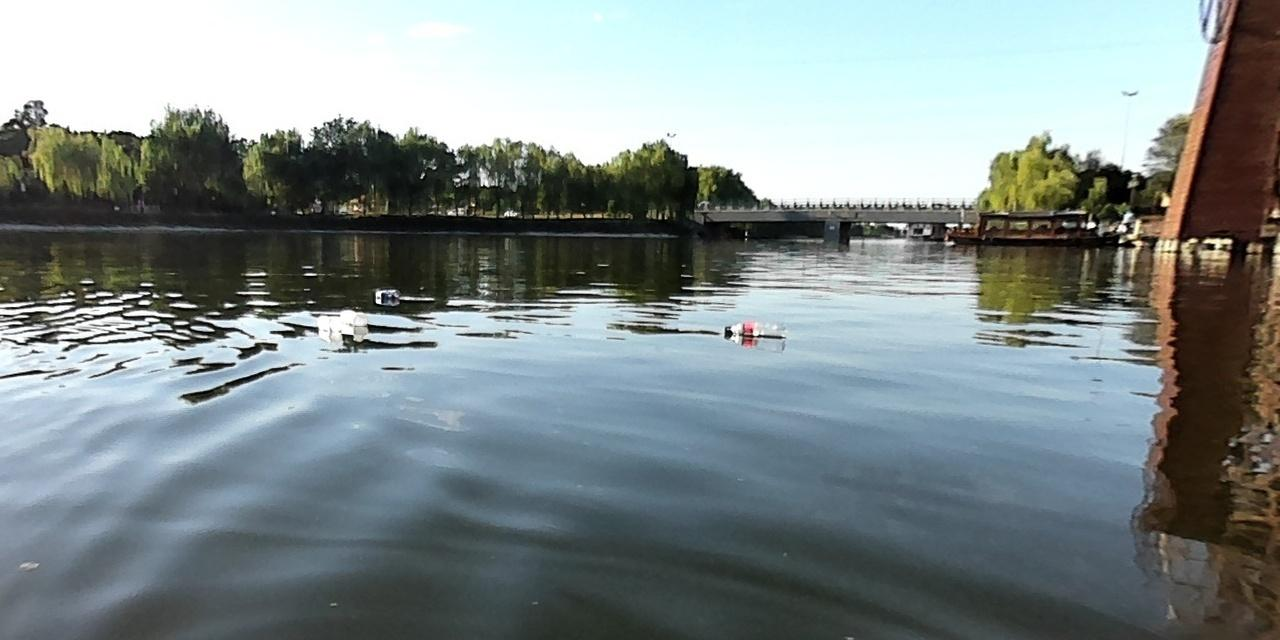bottle: (720, 316, 788, 339), (336, 306, 369, 324), (368, 286, 401, 303)
